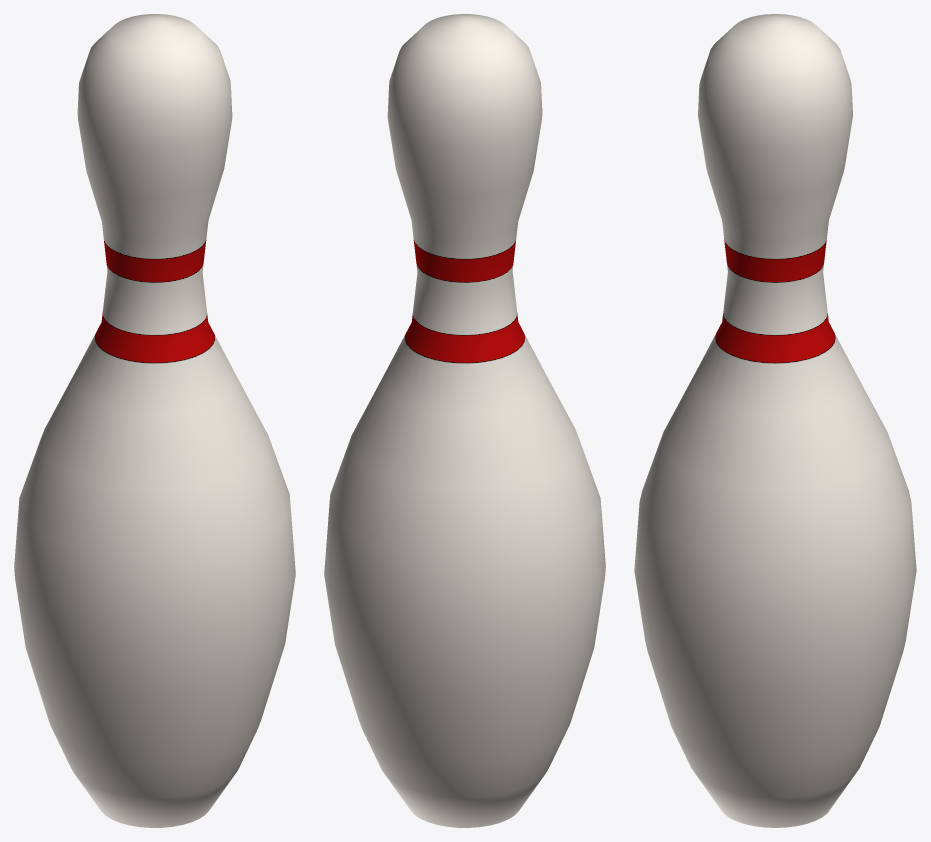
The model's file is bowling_pin.fbx.
3 views of the same model, side by side, from view 1: azimuth 30°, elevation 25°; view 2: azimuth 150°, elevation 25°; view 3: azimuth 270°, elevation 25° (orthographic).
Parts seen in each view (by area): view 1: Cylinder; view 2: Cylinder; view 3: Cylinder.
Boxes of the visible parts, x1,y1,x2,y2 form: Cylinder: (14, 14, 295, 827); Cylinder: (324, 14, 605, 827); Cylinder: (634, 14, 916, 827).
Size of the model in its own units: 14.92 by 45.67 by 14.92.
